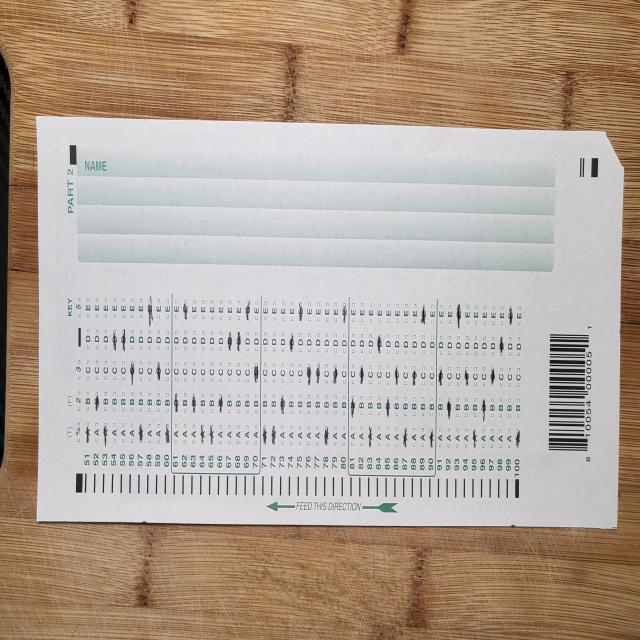scantron_back: (36, 116, 624, 528)
